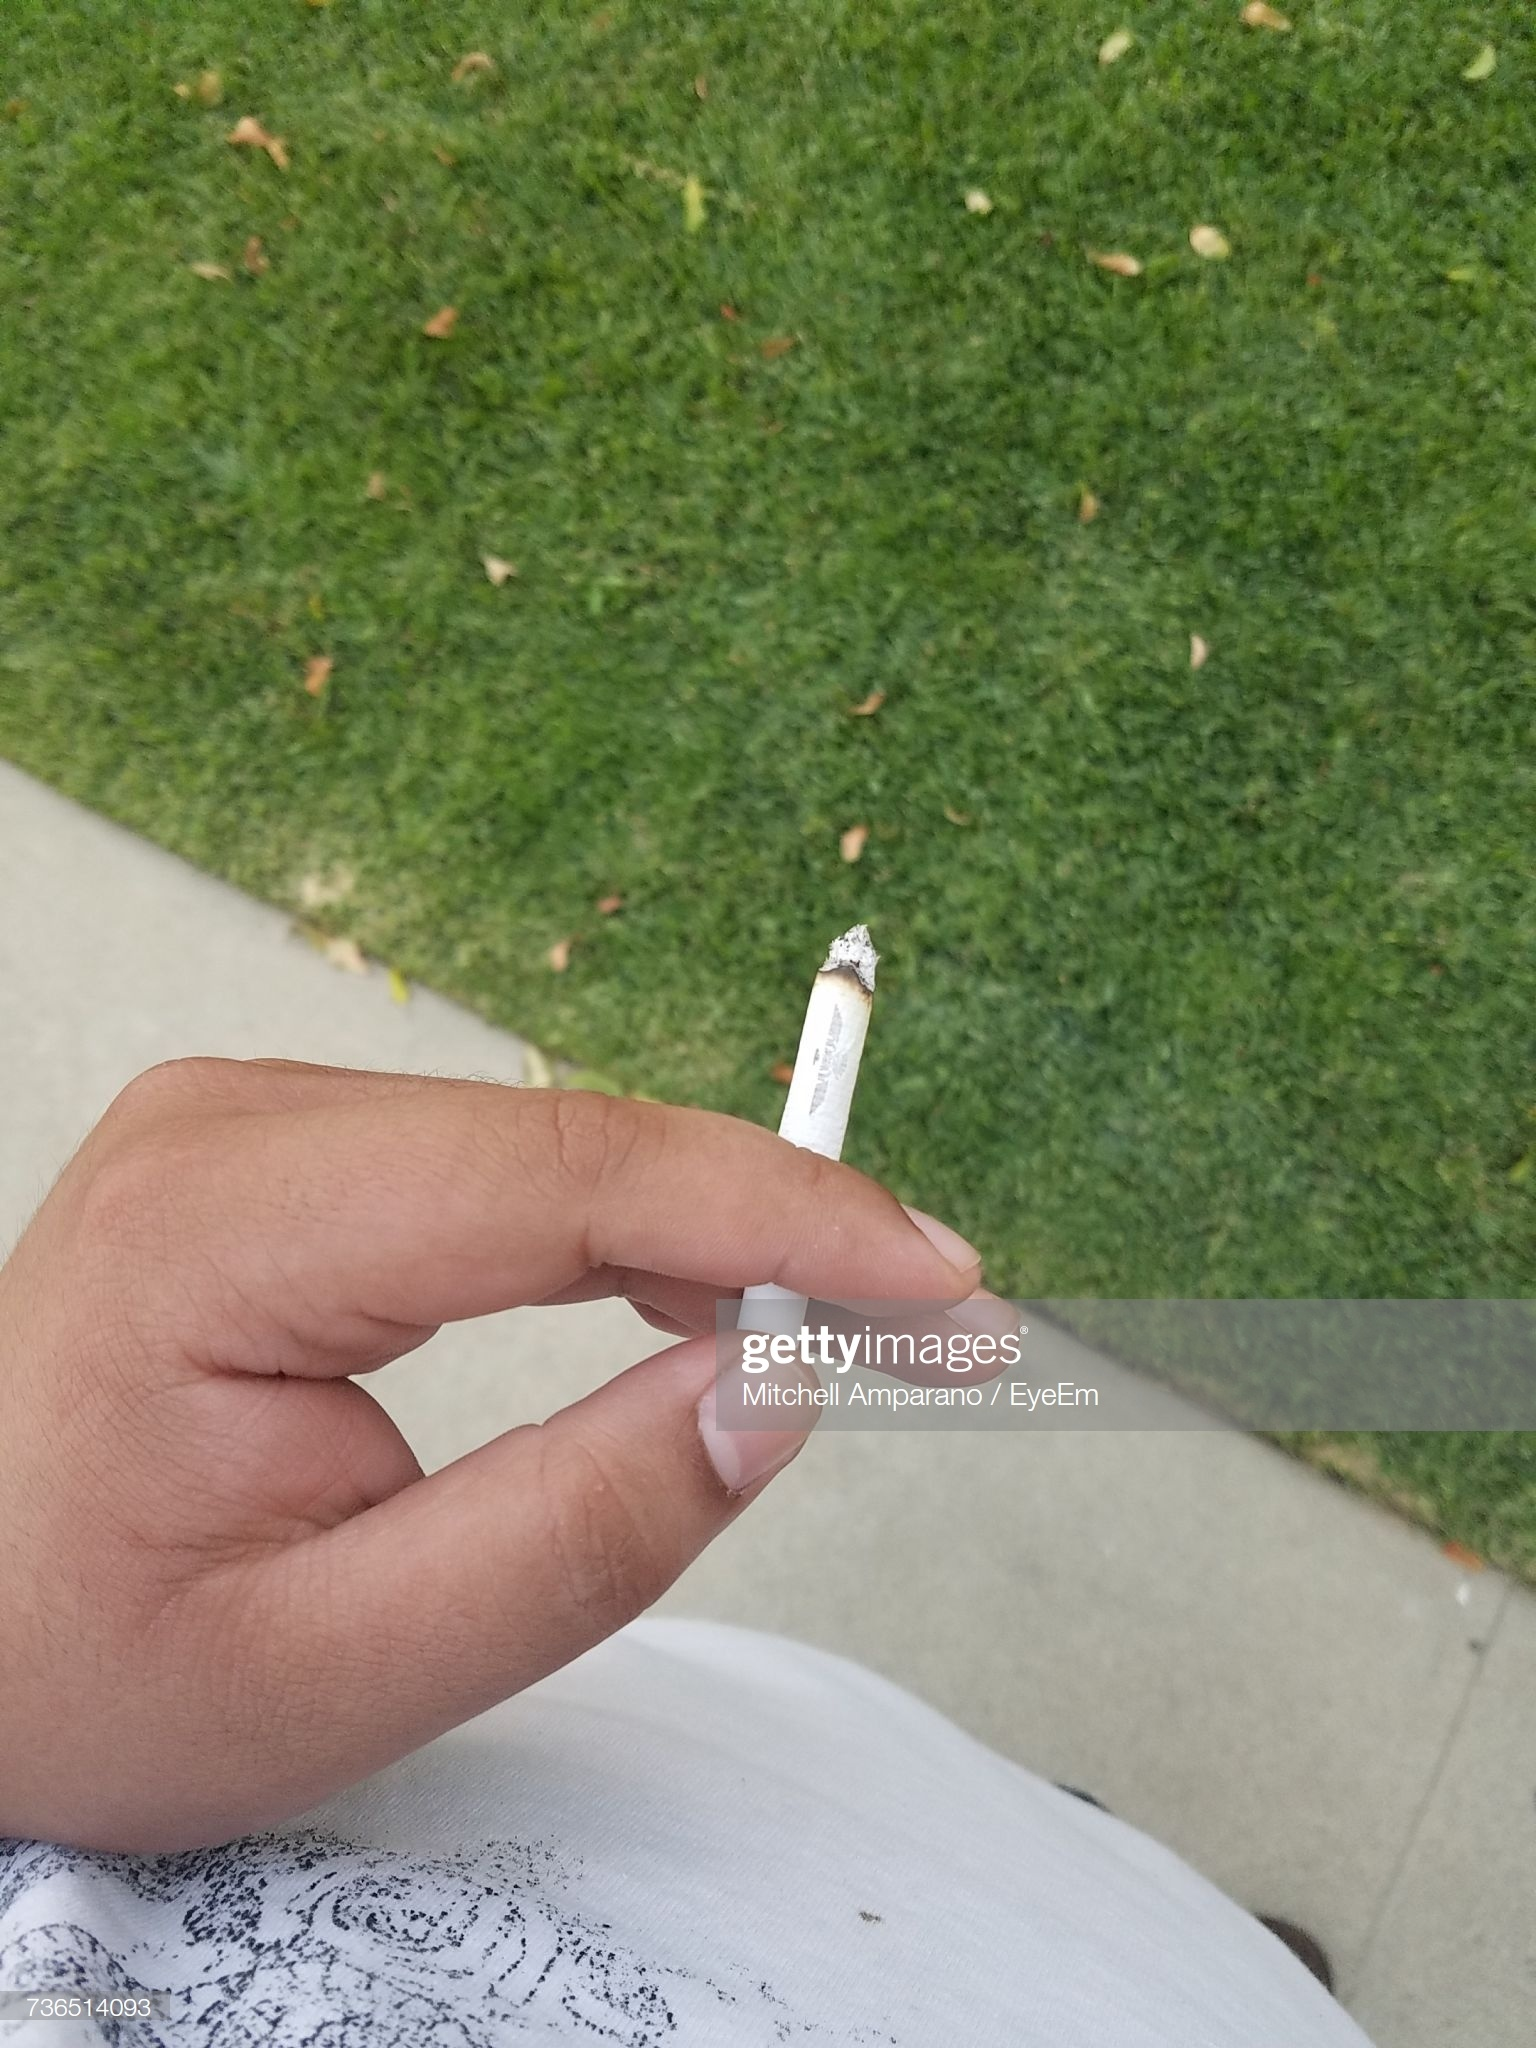sigaretta: (710, 918, 929, 1417)
